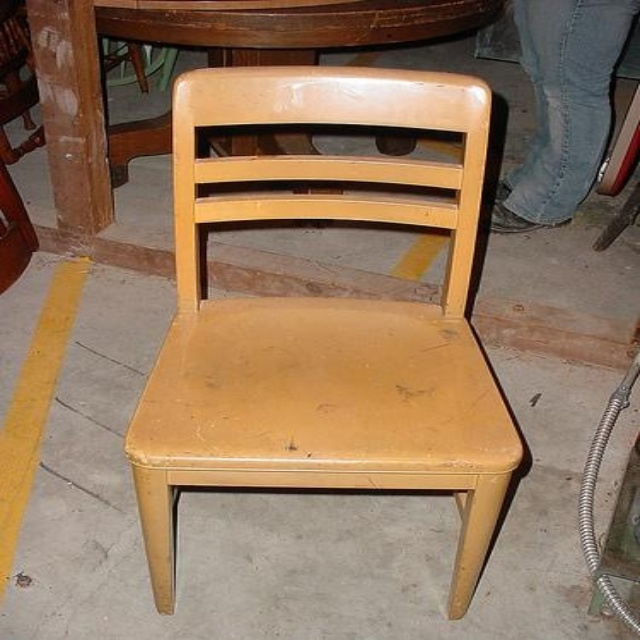obstacle: (126, 67, 522, 617)
